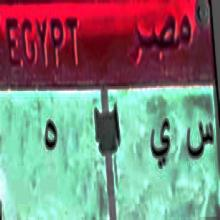5: (38, 115, 62, 164)
alif: (112, 103, 123, 156)
seen: (183, 114, 214, 173)
yaa: (148, 115, 174, 173)
